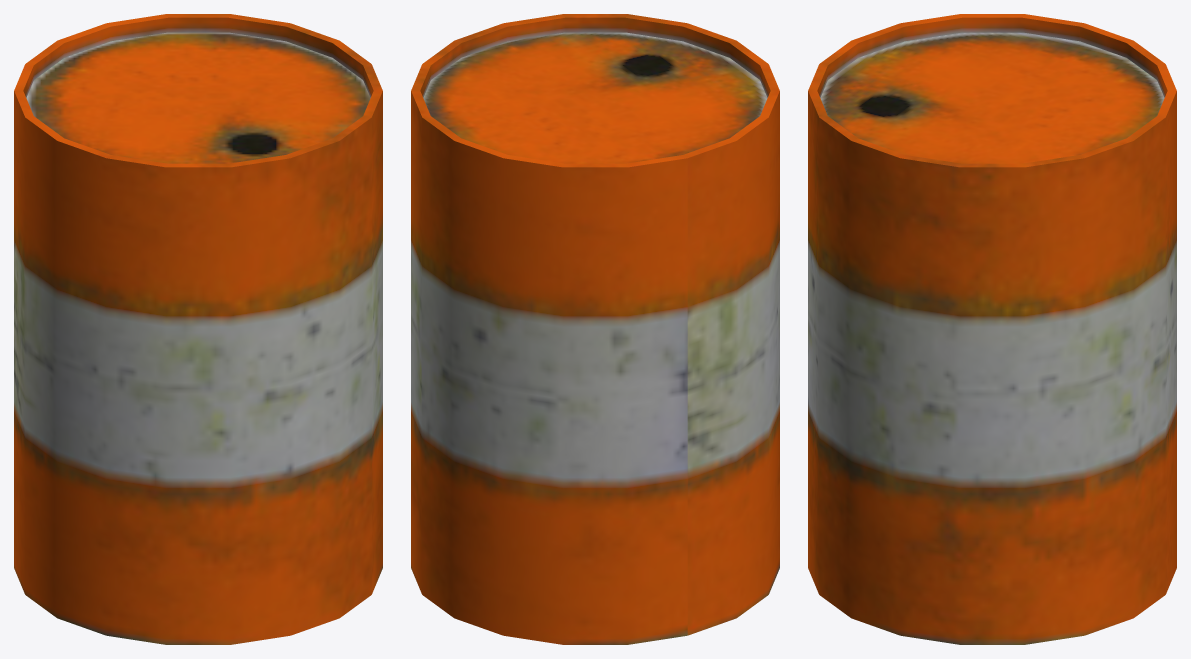
The model's file is metal_drum_5.fbx.
3 renders of one model, left to right at view 1: azimuth 30°, elevation 25°; view 2: azimuth 150°, elevation 25°; view 3: azimuth 270°, elevation 25°, orthographic.
Visible parts, largest first — view 1: Barrel1__4_; view 2: Barrel1__4_; view 3: Barrel1__4_.
Part boxes in pixels (bbox=[...]): Barrel1__4_: bbox=[14, 14, 382, 644]; Barrel1__4_: bbox=[411, 14, 779, 644]; Barrel1__4_: bbox=[808, 14, 1176, 644].
Size of the model in its own units: 58.27 by 84.53 by 59.17.
